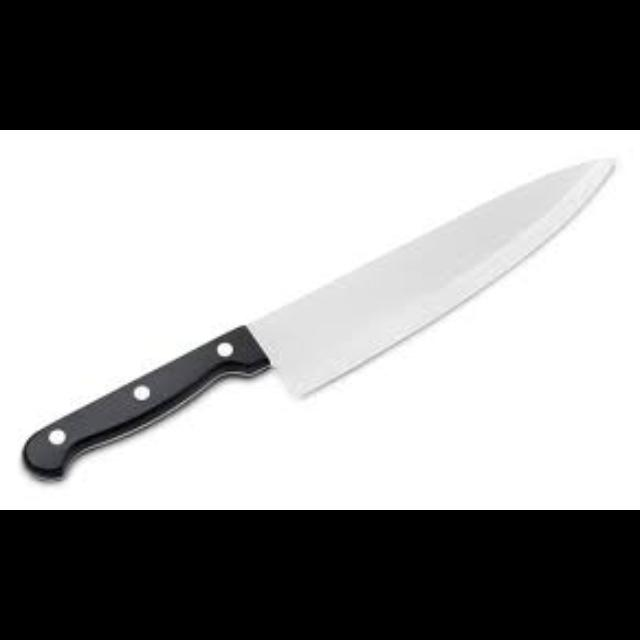Knife: (20, 154, 616, 480)
